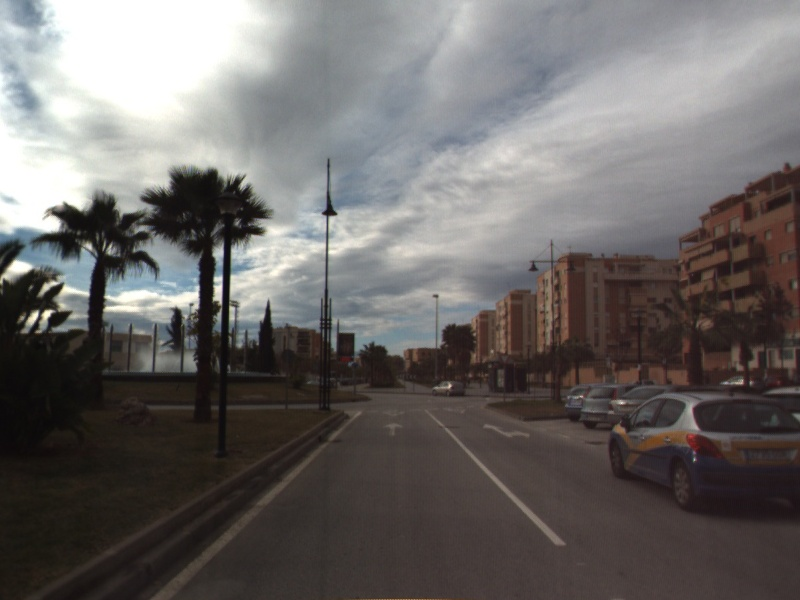STRAIGHT: (381, 420, 405, 438)
STRAIGHT_RIGHT: (481, 422, 532, 440)
